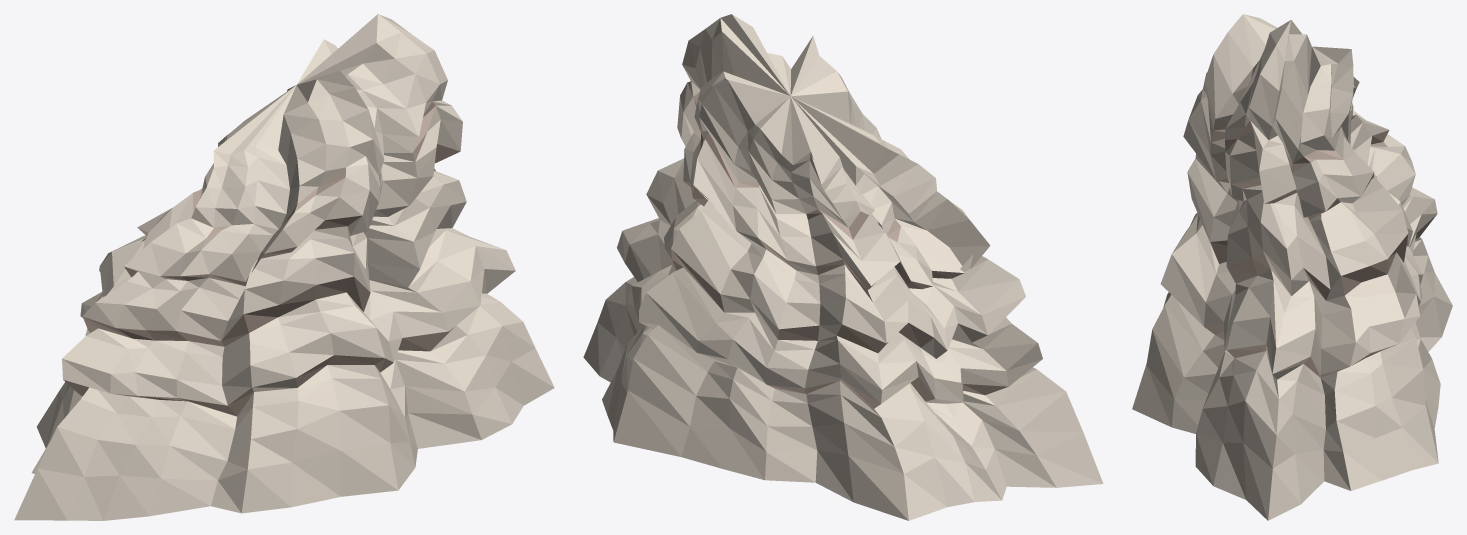
Rendered from canyon_ridge.glb.
3 renders of one model, left to right at view 1: azimuth 30°, elevation 25°; view 2: azimuth 150°, elevation 25°; view 3: azimuth 270°, elevation 25°, orthographic. The views are drawn at different scales.
Visible parts, largest first — view 1: canyon_ridge; view 2: canyon_ridge; view 3: canyon_ridge.
Boxes of the visible parts, x1,y1,x2,y2 form: canyon_ridge: [14, 14, 554, 520]; canyon_ridge: [583, 14, 1103, 520]; canyon_ridge: [1132, 14, 1452, 520].
Bounding box in the file's own units: 17.72 × 12.71 × 8.84.
